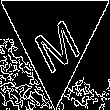M_NW: (27, 3, 83, 70)
